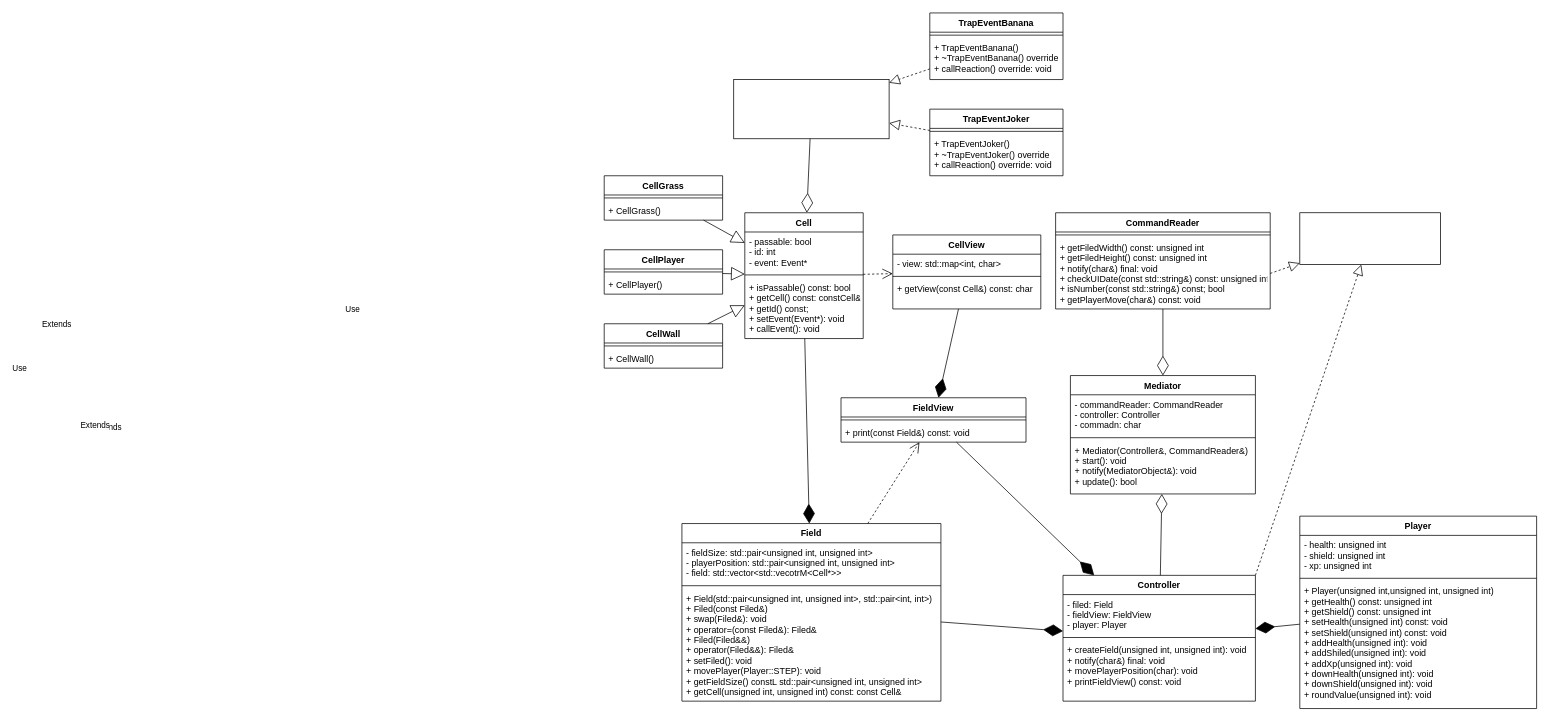
This 1550x724 diagram has some shape labels left out. Each missing label, with the centre of its shape:
"<<Interface>> Event + virtual ~Event() + virtual callReaction(Player&): void" goes at (x=811, y=109).
"<<Interface>> MediatorObjectr + virtual notify(char&): void" goes at (x=1369, y=238).
